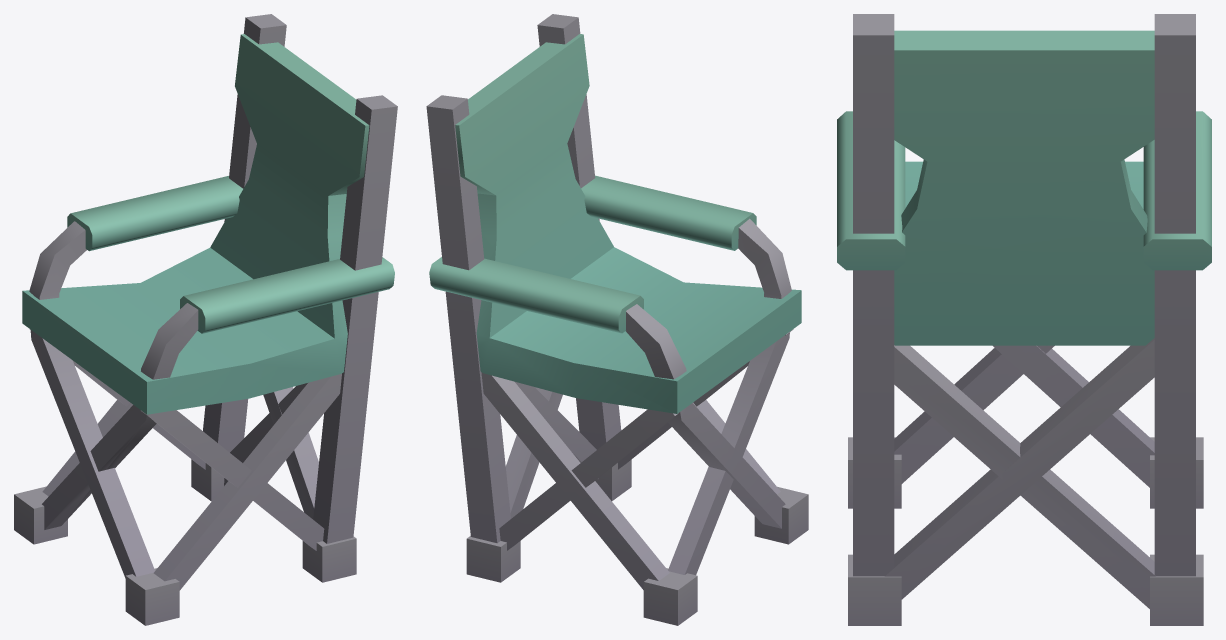
The model's file is chair-camping.glb.
The picture shows the model from 3 angles, left to right: view 1: azimuth 30°, elevation 25°; view 2: azimuth 150°, elevation 25°; view 3: azimuth 270°, elevation 25°; orthographic projection. The views are drawn at different scales.
Visible parts, largest first — view 1: chair-camping; view 2: chair-camping; view 3: chair-camping.
Boxes of the visible parts, x1,y1,x2,y2 form: chair-camping: (14, 14, 397, 625); chair-camping: (426, 14, 808, 625); chair-camping: (837, 14, 1211, 625).
Size of the model in its own units: 0.4467 by 0.7695 by 0.4194.
